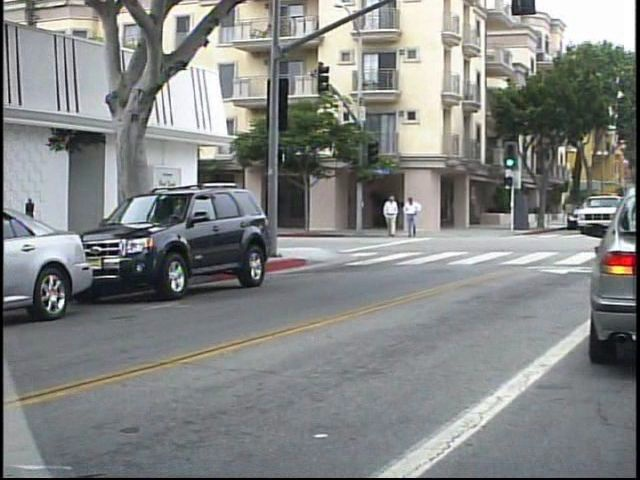person: (399, 193, 421, 242), (377, 191, 397, 243)
